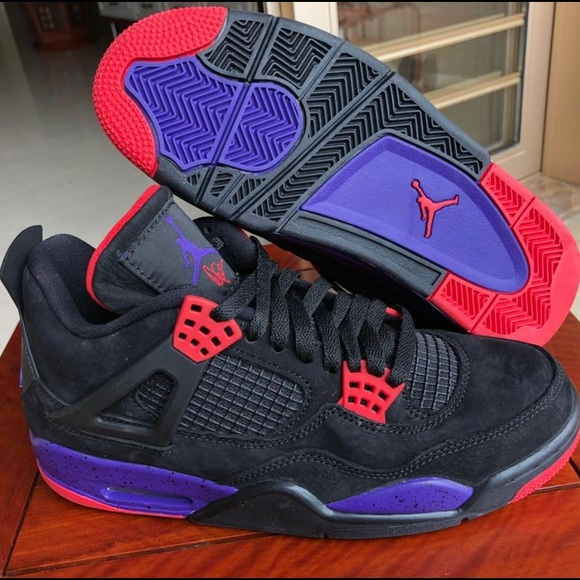Air Jordan 4 Raptors: (1, 190, 577, 547)
